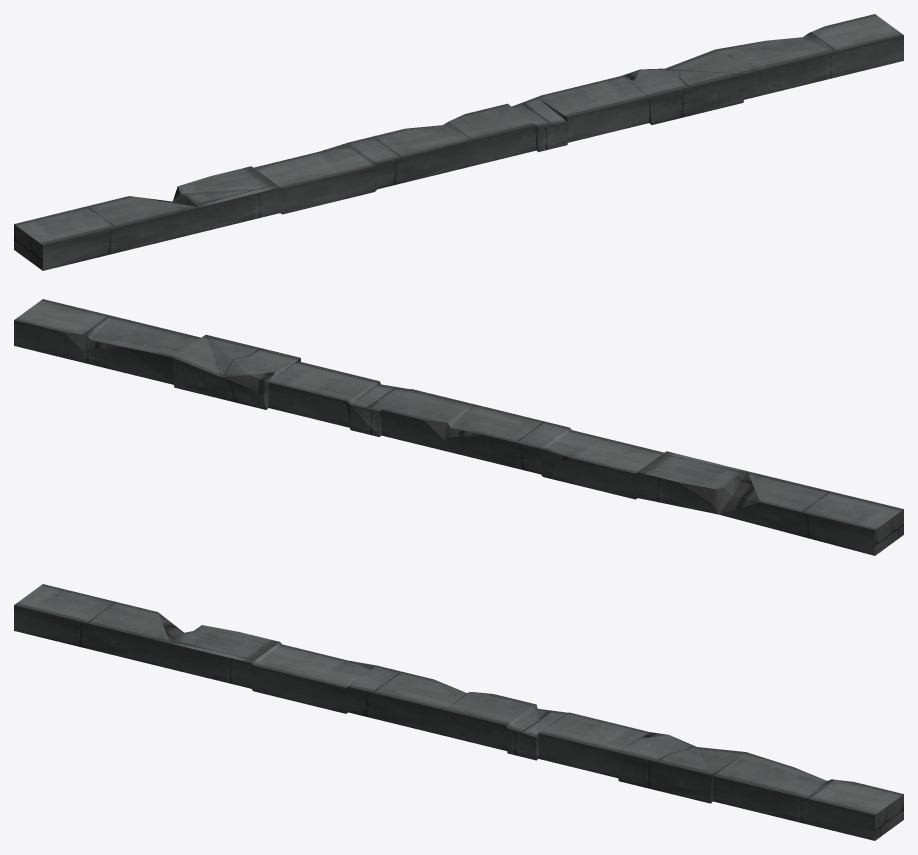
Rendered from sewer_room_brick001.FBX.
3 views of the same model, one above another, from view 1: azimuth 30°, elevation 25°; view 2: azimuth 150°, elevation 25°; view 3: azimuth 330°, elevation 25° (orthographic).
Parts seen in each view (by area): view 1: sewer_room_brick001; view 2: sewer_room_brick001; view 3: sewer_room_brick001.
Boxes of the visible parts, x1,y1,x2,y2 form: sewer_room_brick001: [14, 14, 903, 270]; sewer_room_brick001: [14, 299, 903, 555]; sewer_room_brick001: [14, 584, 903, 840].
Size of the model in its own units: 2000 by 67.14 by 133.
